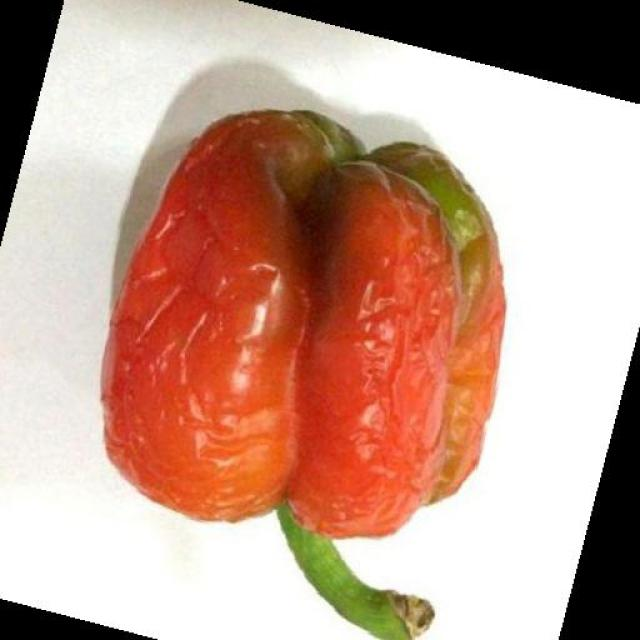Stale_Capsicum: (94, 71, 512, 577)
